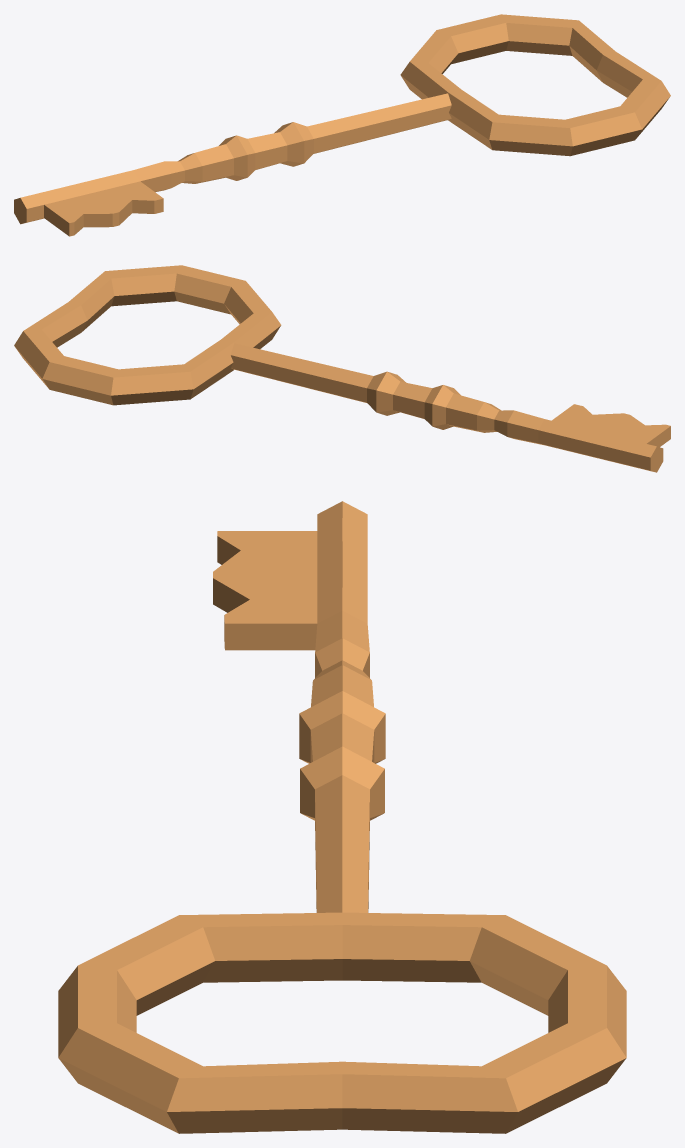
File: Key.fbx
3 views of the same model, one above another, from view 1: azimuth 30°, elevation 25°; view 2: azimuth 150°, elevation 25°; view 3: azimuth 270°, elevation 25° (orthographic). The views are drawn at different scales.
Visible parts, largest first — view 1: Key; view 2: Key; view 3: Key.
Part boxes in pixels (x1=…): Key: x1=14, y1=14, x2=670, y2=236; Key: x1=14, y1=265, x2=670, y2=472; Key: x1=58, y1=501, x2=626, y2=1133.
Bounding box in the file's own units: 0.3423 × 0.0247 × 0.1406.
